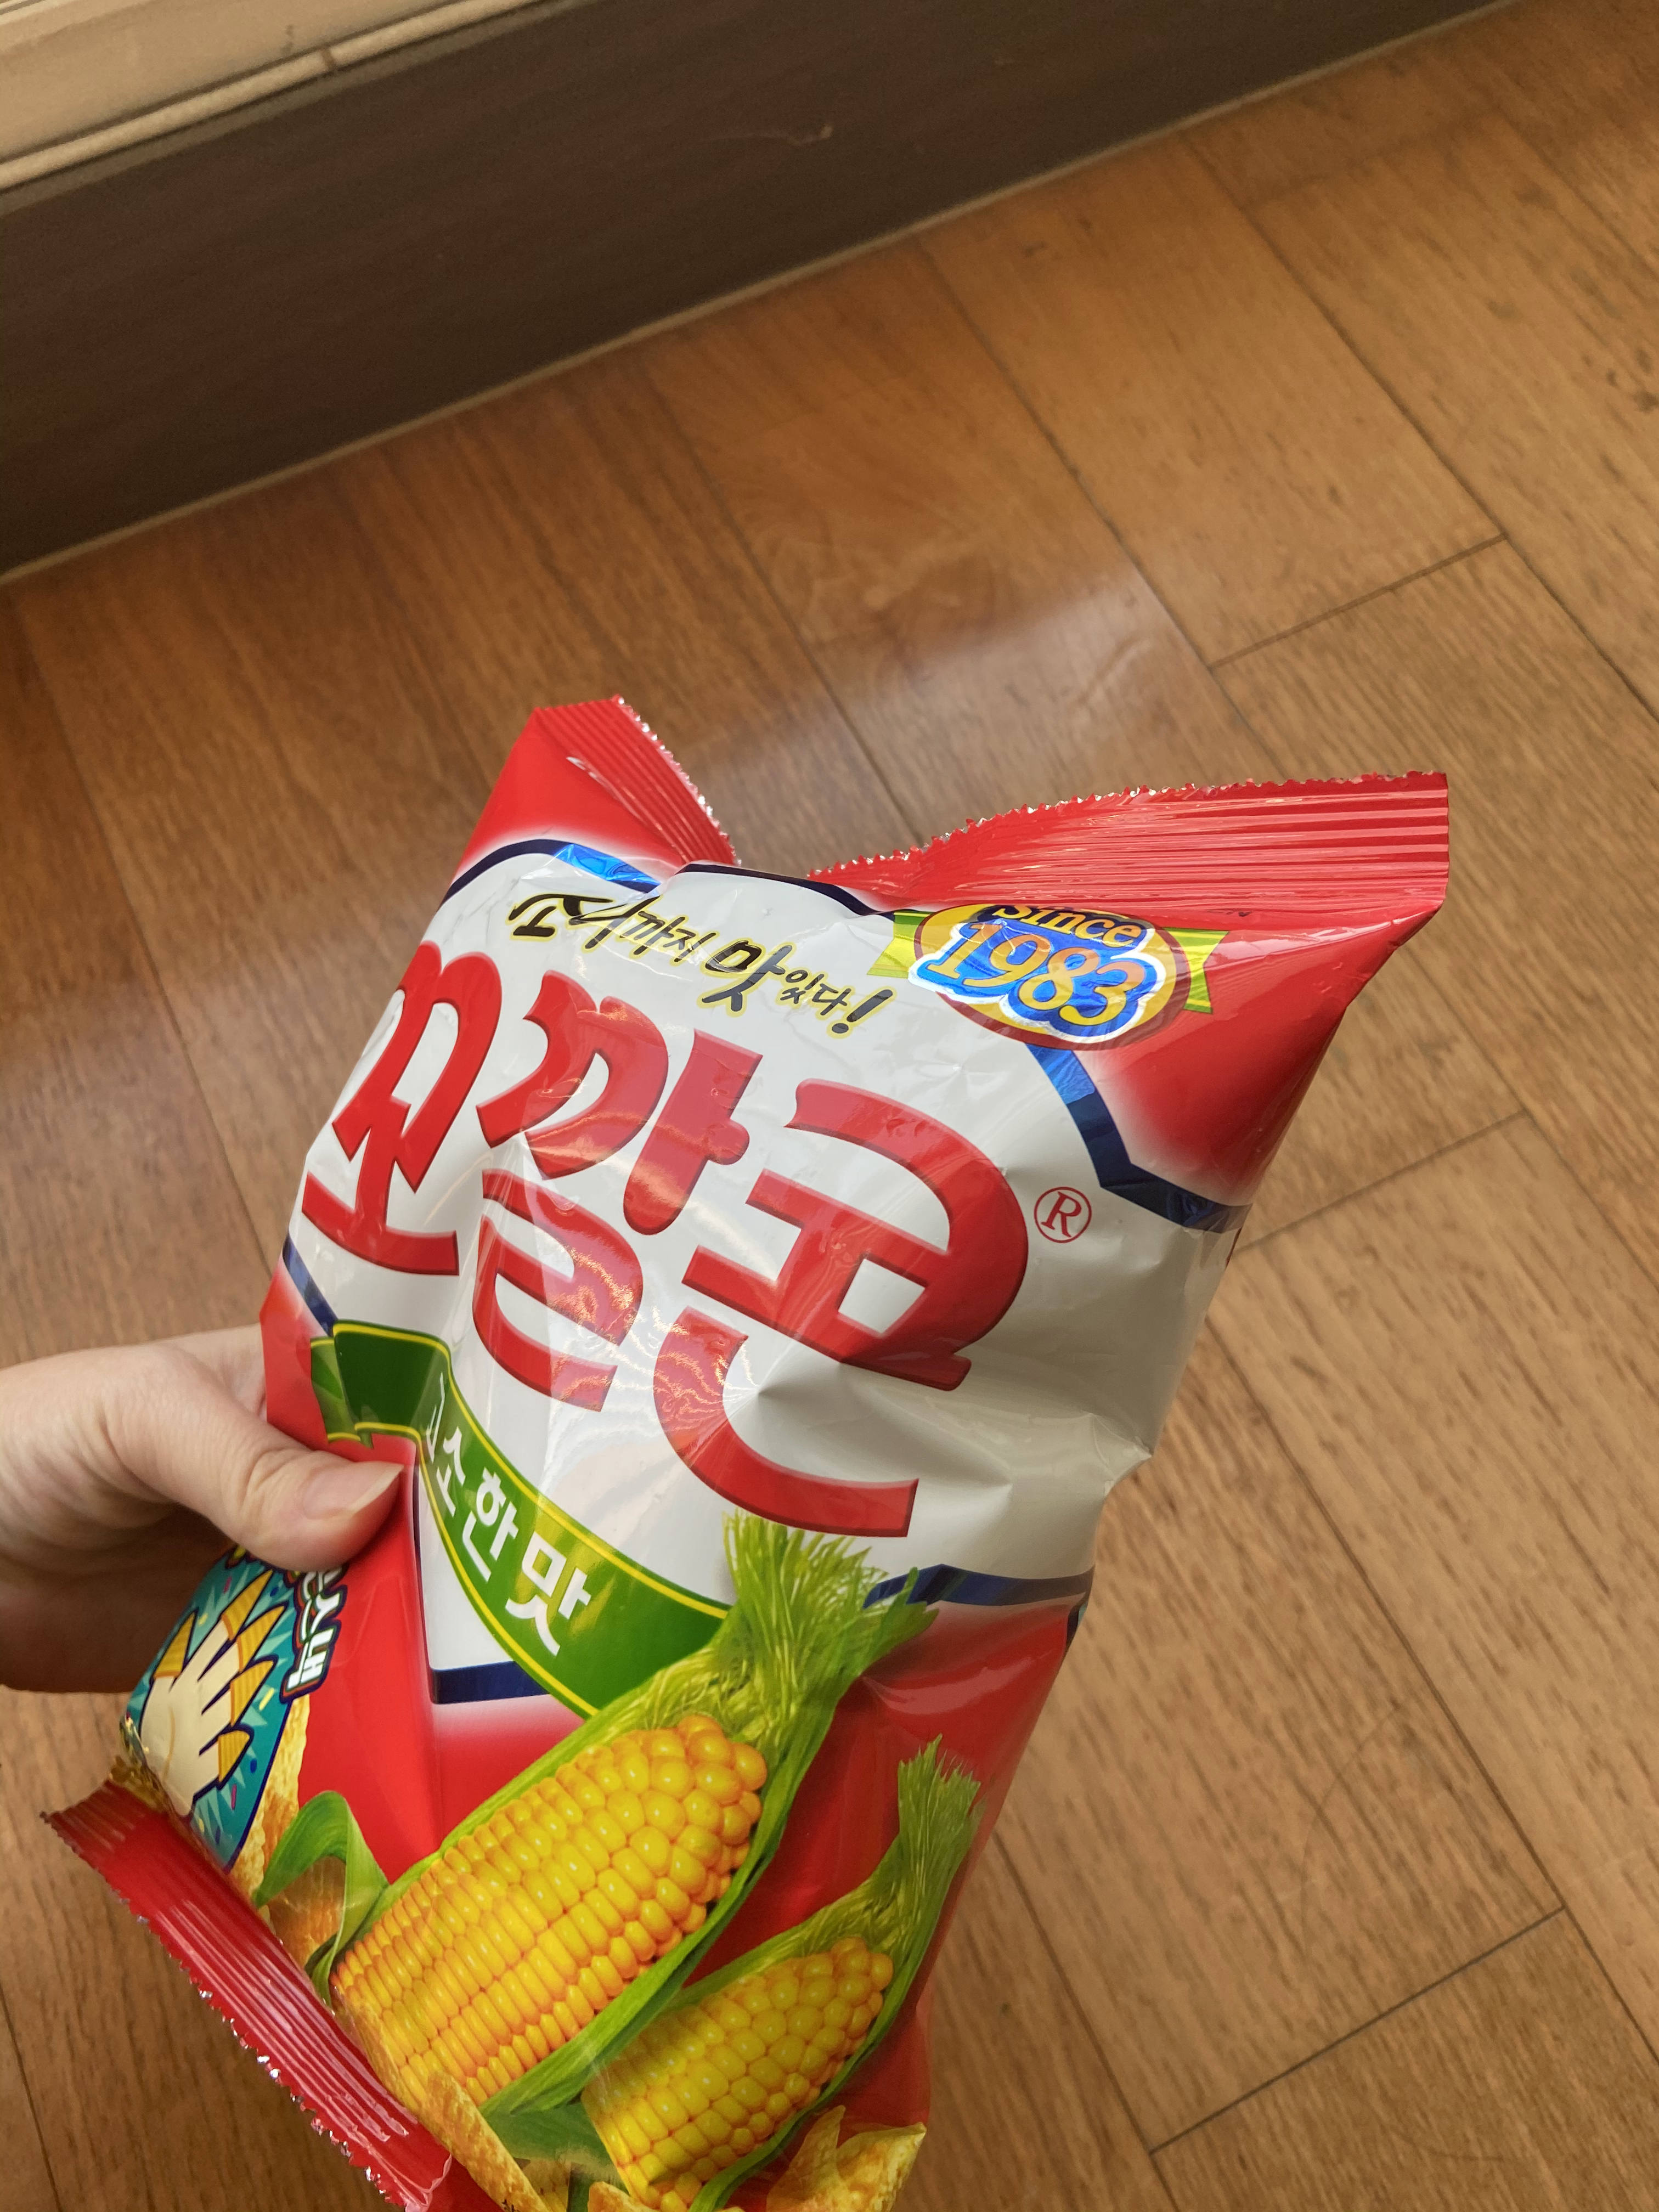ggoggalcon: (28, 672, 1485, 2207)
